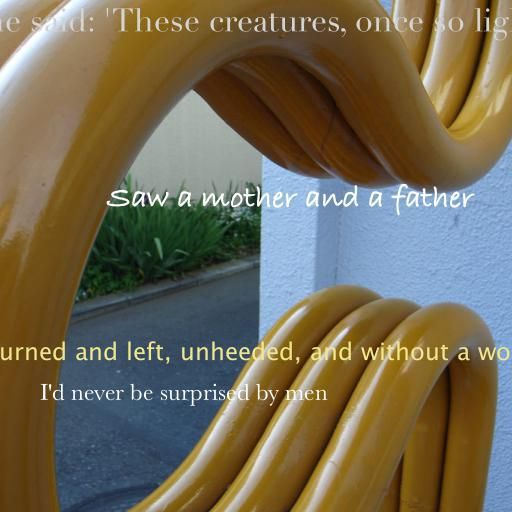Baskerville: (40, 383, 328, 406)
Bradley Hand: (106, 183, 474, 216)
Didot: (0, 7, 512, 41)
Lucida Grande: (0, 341, 512, 364)
